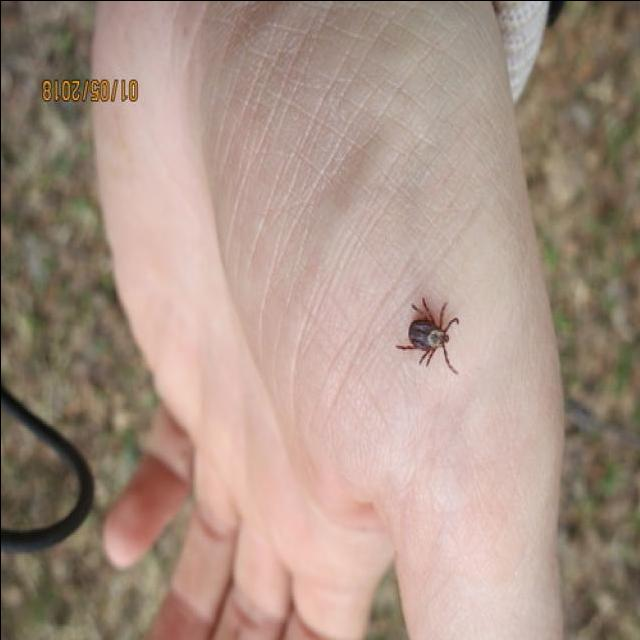Dermacentor Reticulatus-F: (396, 294, 458, 374)
